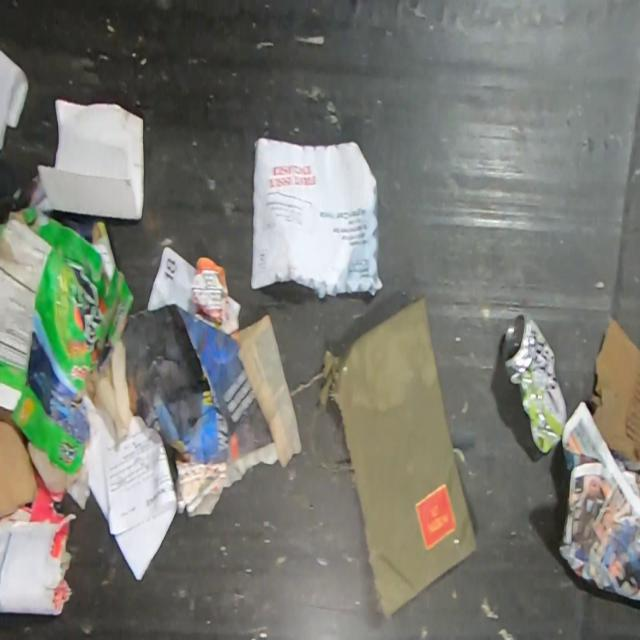cardboard: (0, 206, 135, 475), (587, 315, 640, 465), (0, 407, 36, 519)
metal: (502, 313, 567, 456)
soft_plastic: (316, 295, 479, 612)
